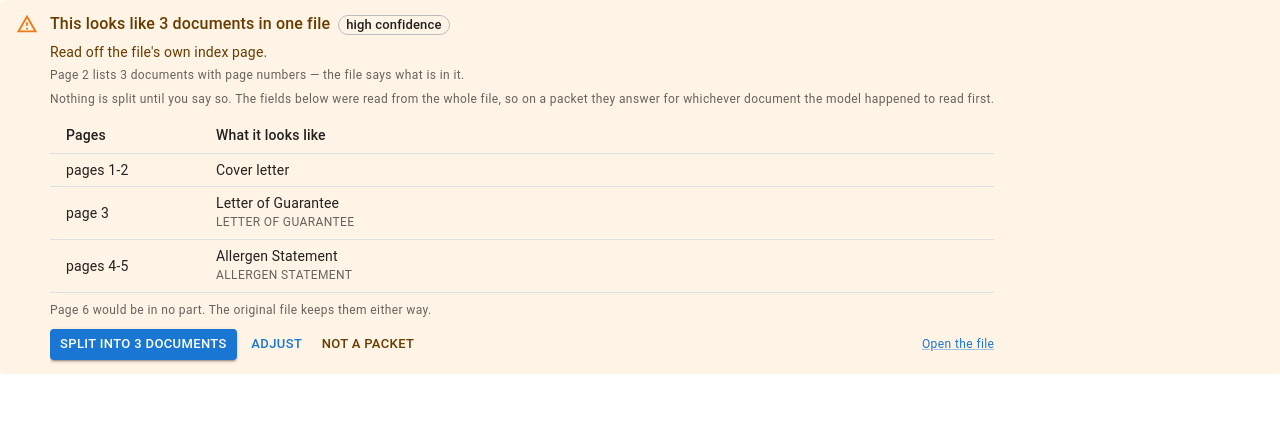
Scenario: the three actions › a failed split says why and leaves the card asking
Click the button "Split into 3 documents": {"x": 143, "y": 345} 50,329 -> 237,360
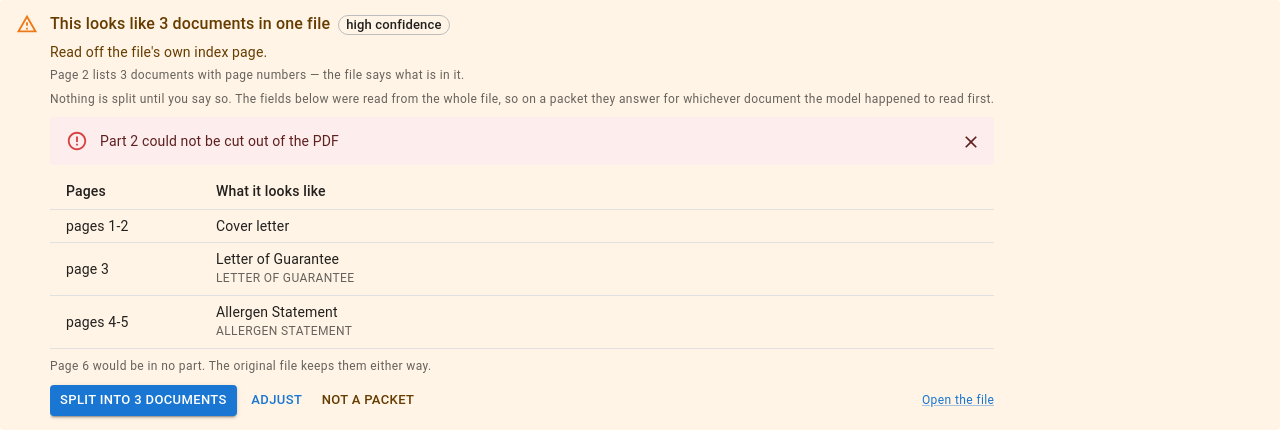
Check: the button "Split into 3 documents" is shown, box 50,385 -> 237,416
Check: the text "Part 2 could not be cut out of the PDF" is shown, box 100,133 -> 339,149
